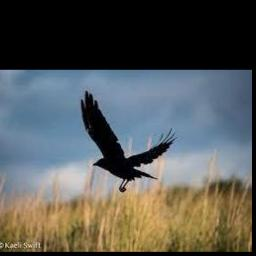Crow: (79, 90, 177, 193)
